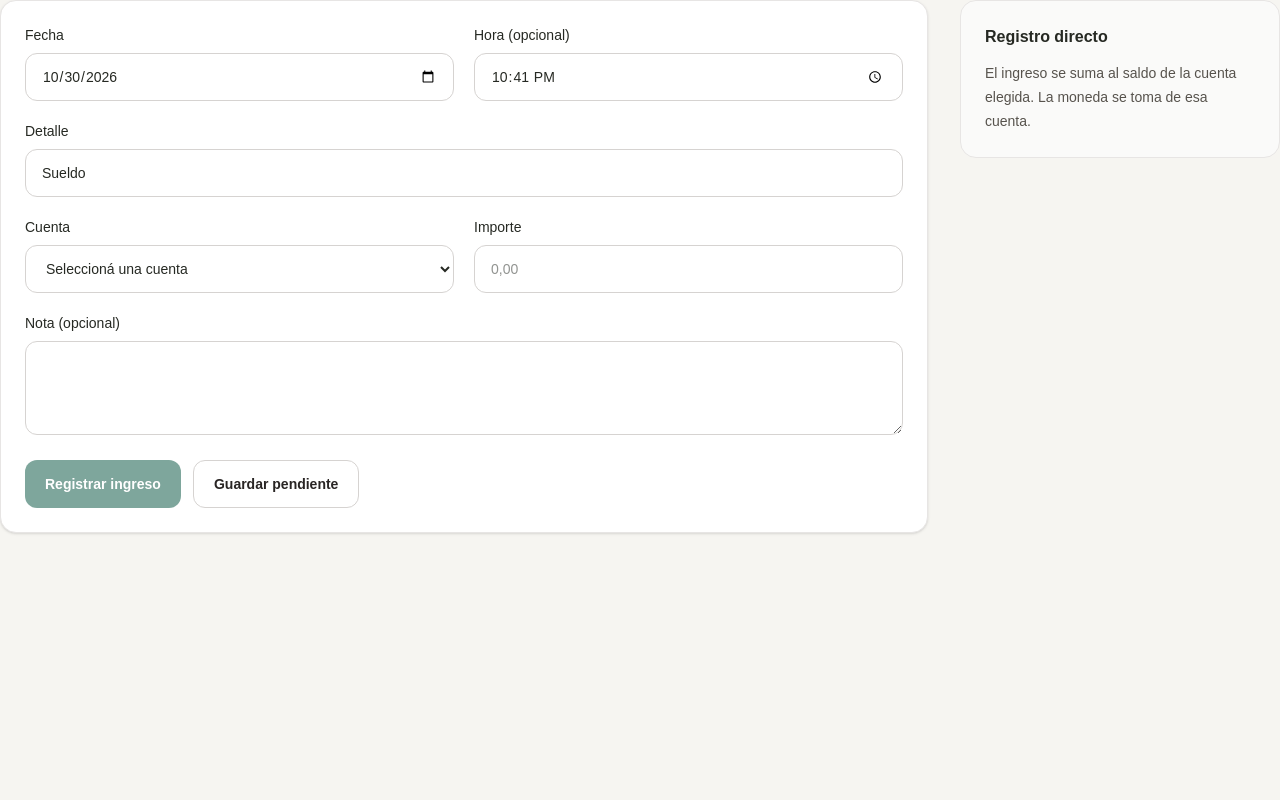
Test case: formulario de ingresos › sugiere Sueldo y fecha y hora actuales, permite editar el detalle y registra el ingreso
This screenshot has width=1280, height=800.
Select "Itaú pesos · UYU" in the dropdown labelled "Cuenta". click: (240,269)
box: [25,245,454,293]
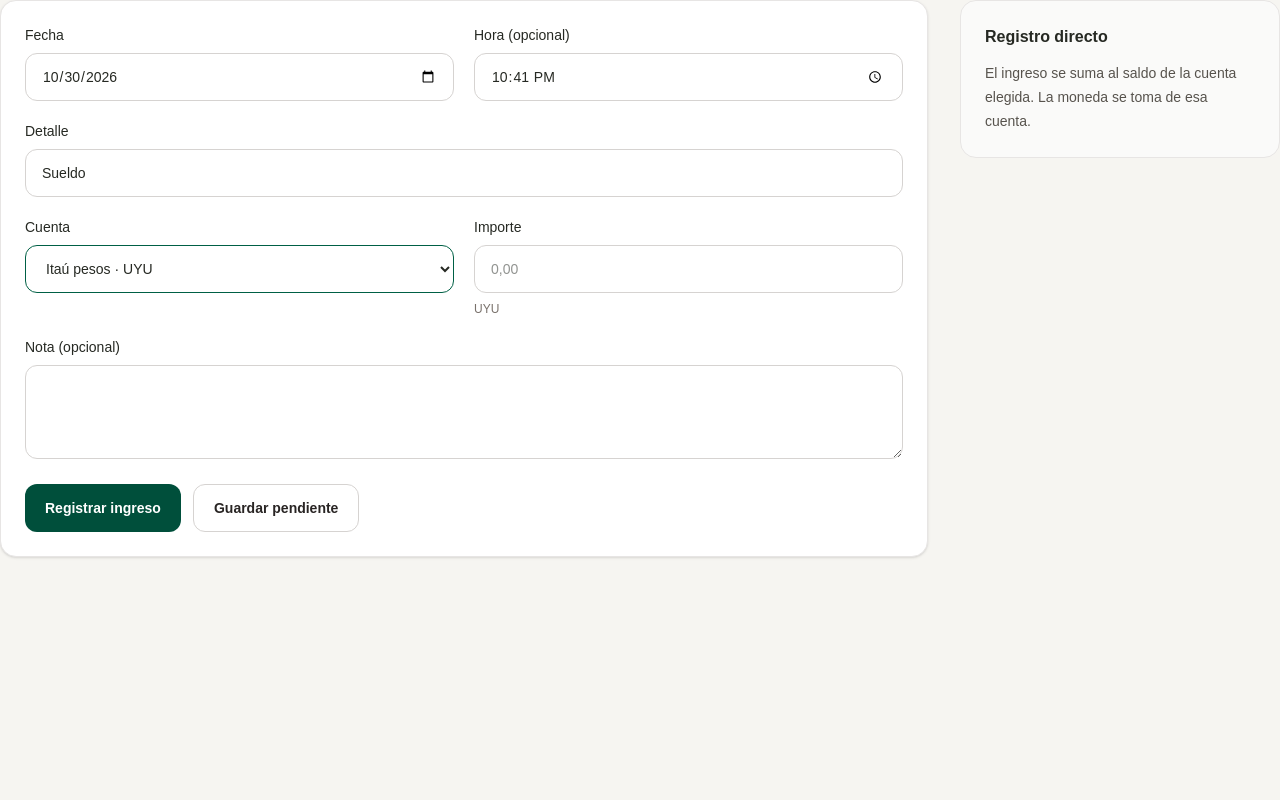
Expected: the date field labelled "Fecha" is not empty, [25,53,454,101]
Expected: the time field labelled "Hora (opcional)" is not empty, [474,53,903,101]
Type "Honorarios" into the field labelled "Detalle". click: (464,173)
box: [25,149,903,197]
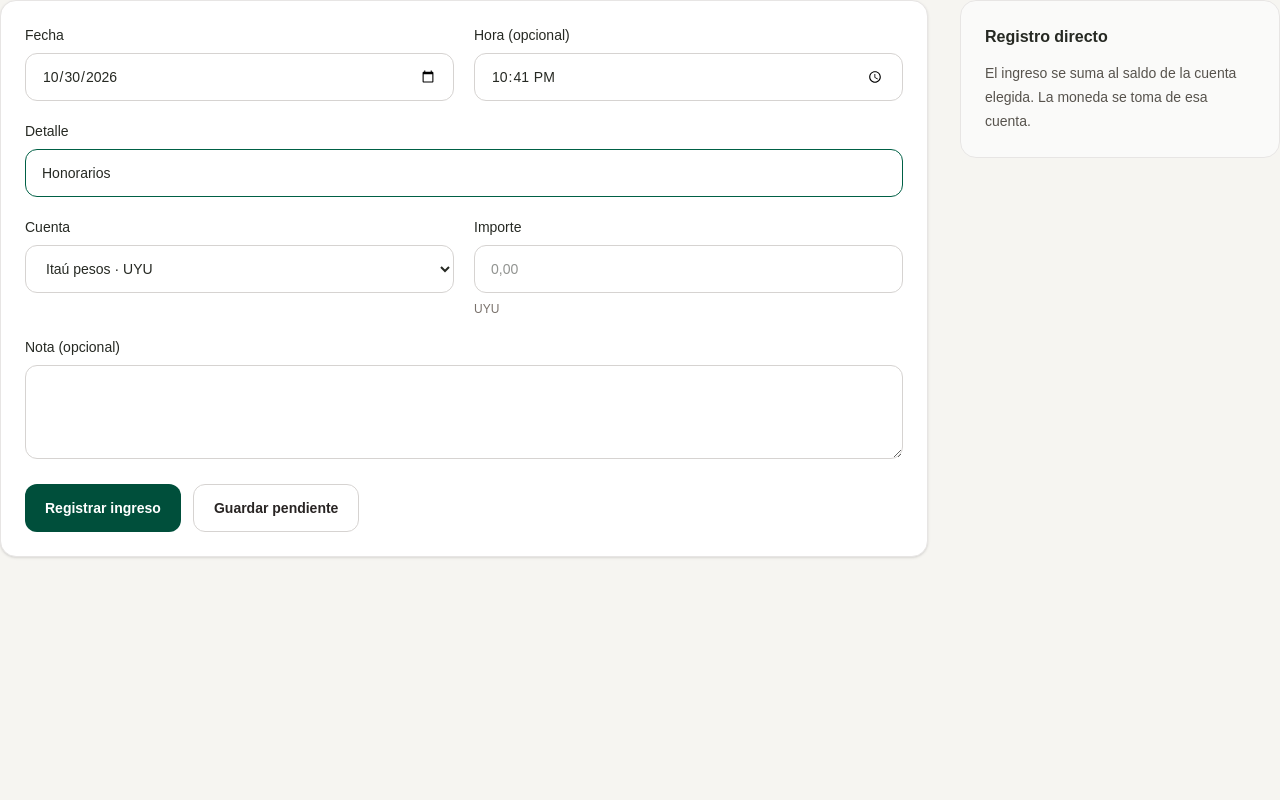
Type "900,25" into the field labelled "Importe". click: (688,269)
box: [474,245,903,293]
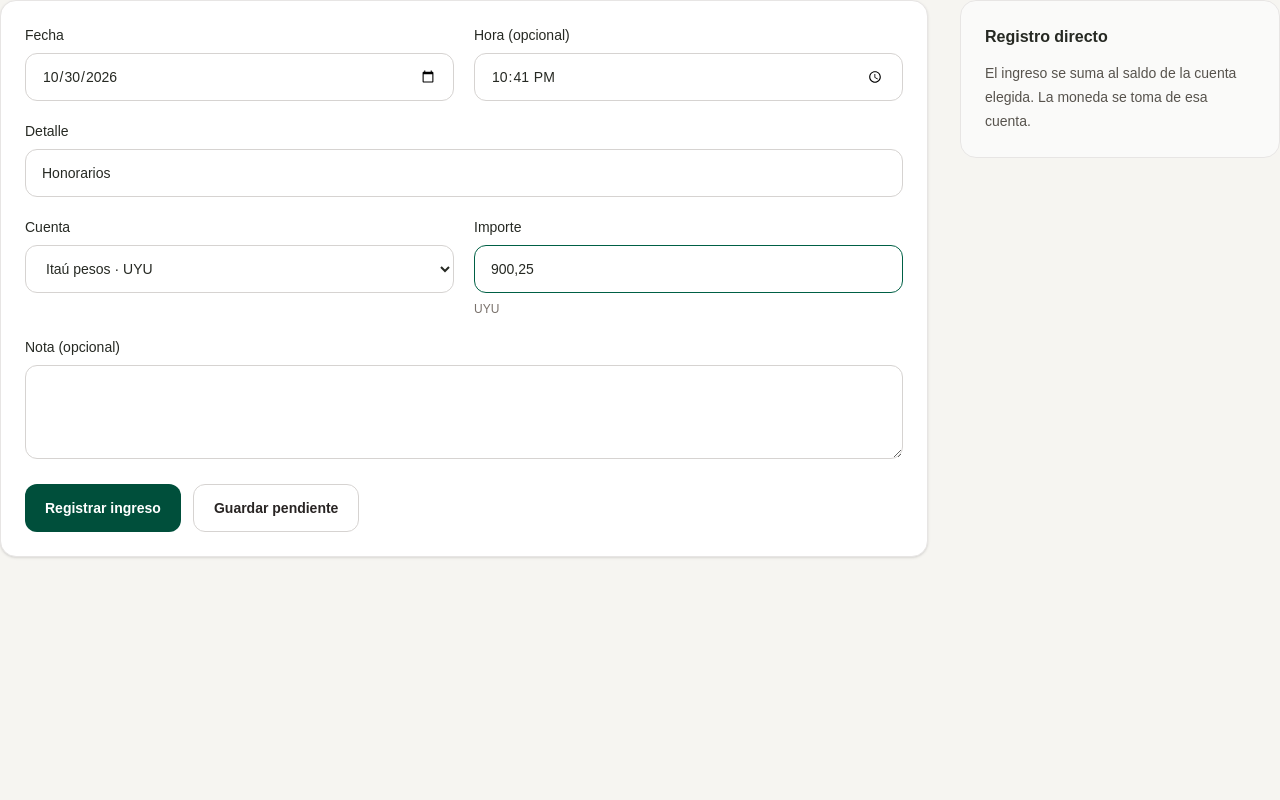
Type "Trabajo independiente" into the text box labelled "Nota (opcional)". click: (464,412)
box: [25,365,903,459]
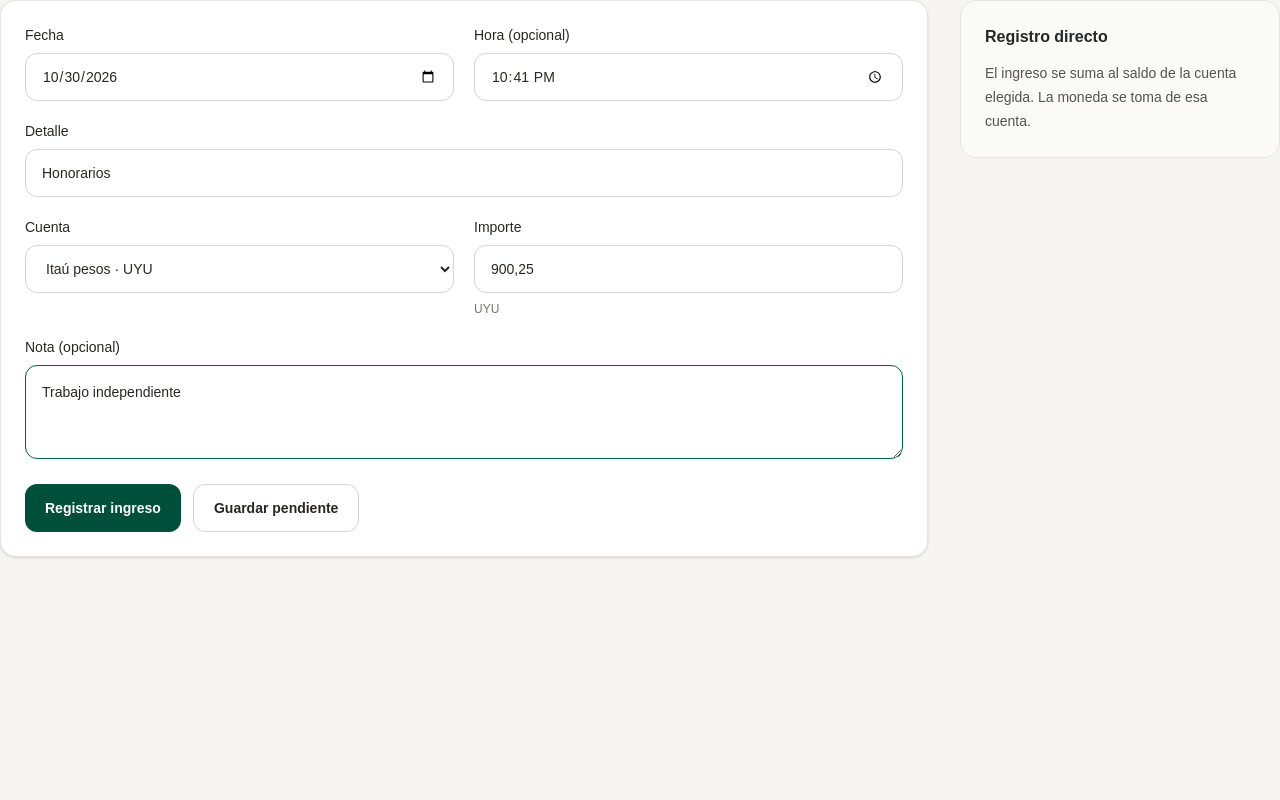
Click the button "Registrar ingreso". click: (103,508)
box: [25,484,181,532]
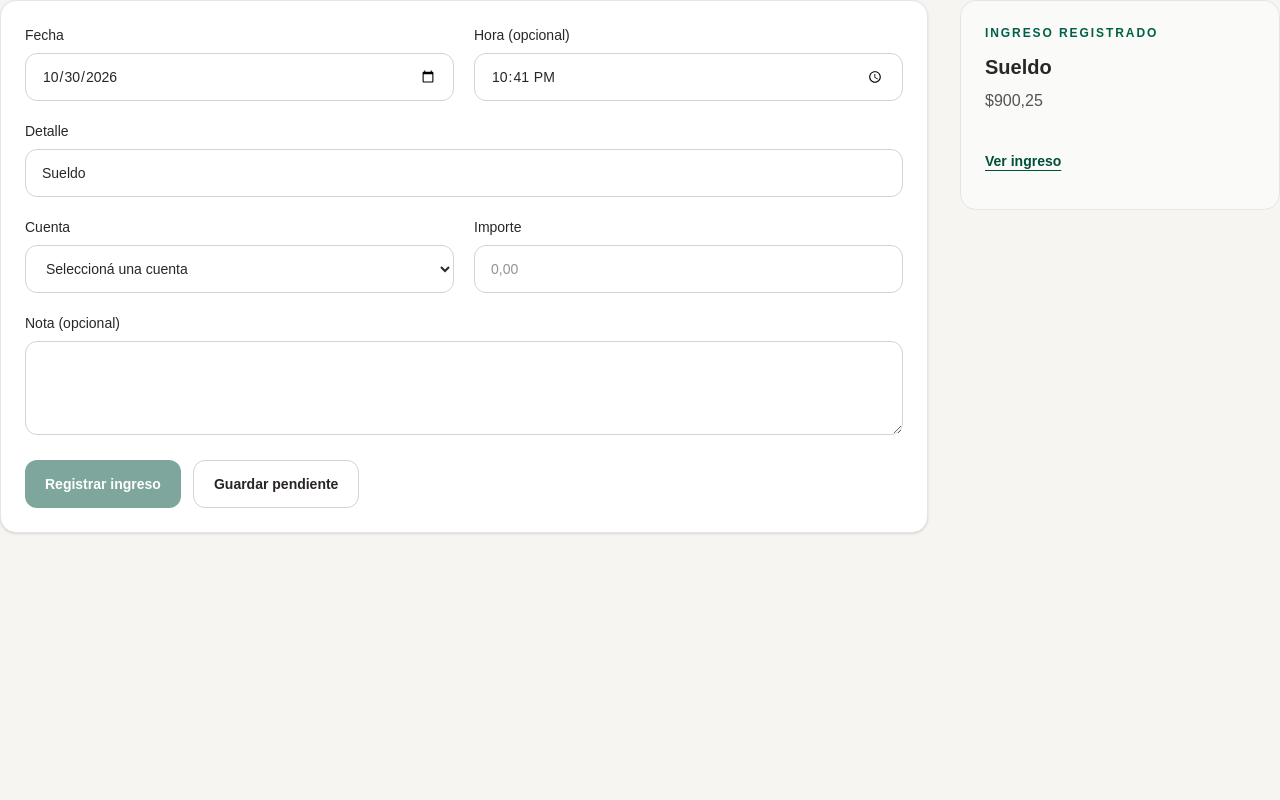
Expected: the link "Ver ingreso" is shown, [985,153,1061,169]
Expected: the text "$900,25" is shown, [985,92,1043,109]
Expected: the field labelled "Detalle" holds "Sueldo", [25,149,903,197]
